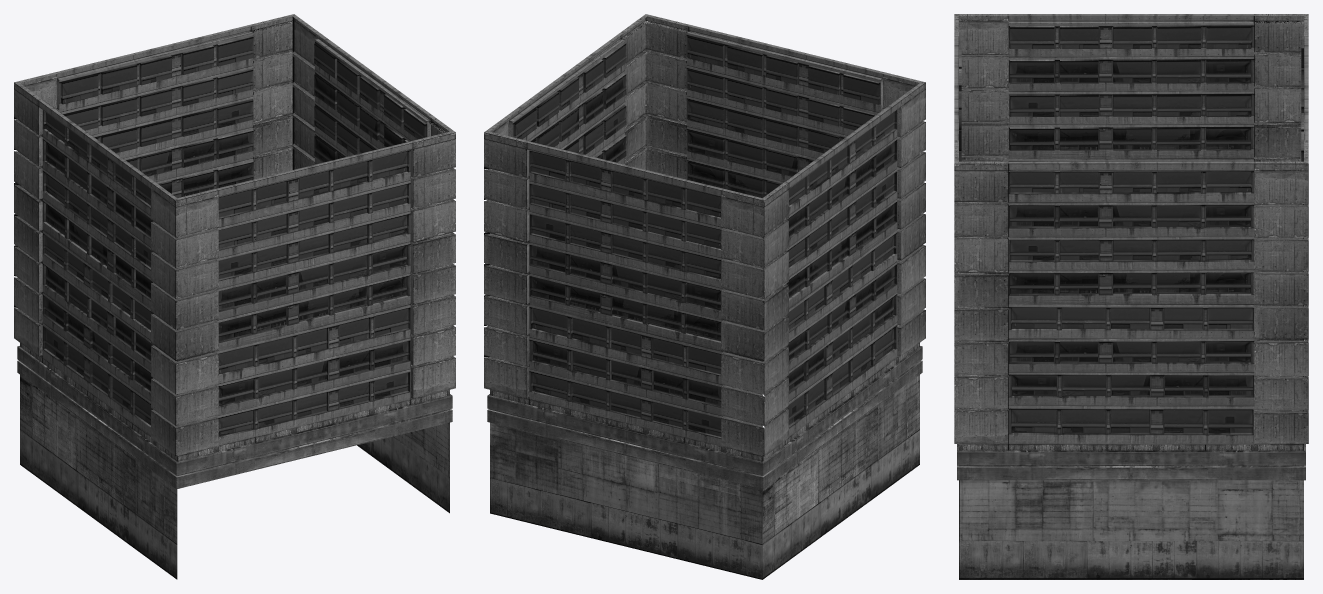
Rendered from skidrow_building_2.fbx.
The picture shows the model from 3 angles, left to right: view 1: azimuth 30°, elevation 25°; view 2: azimuth 150°, elevation 25°; view 3: azimuth 270°, elevation 25°; orthographic projection. The views are drawn at different scales.
Parts seen in each view (by area): view 1: skid_row_building_2; view 2: skid_row_building_2; view 3: skid_row_building_2.
Part boxes in pixels (left/top/right/bottom): skid_row_building_2: left=14, top=14, right=455, bottom=579; skid_row_building_2: left=484, top=14, right=925, bottom=579; skid_row_building_2: left=954, top=14, right=1308, bottom=579.
Bounding box in the file's own units: 1165 × 1518 × 1165.
